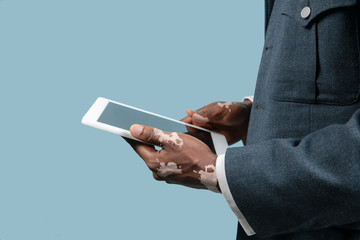vitiligo: (130, 125, 216, 187)
